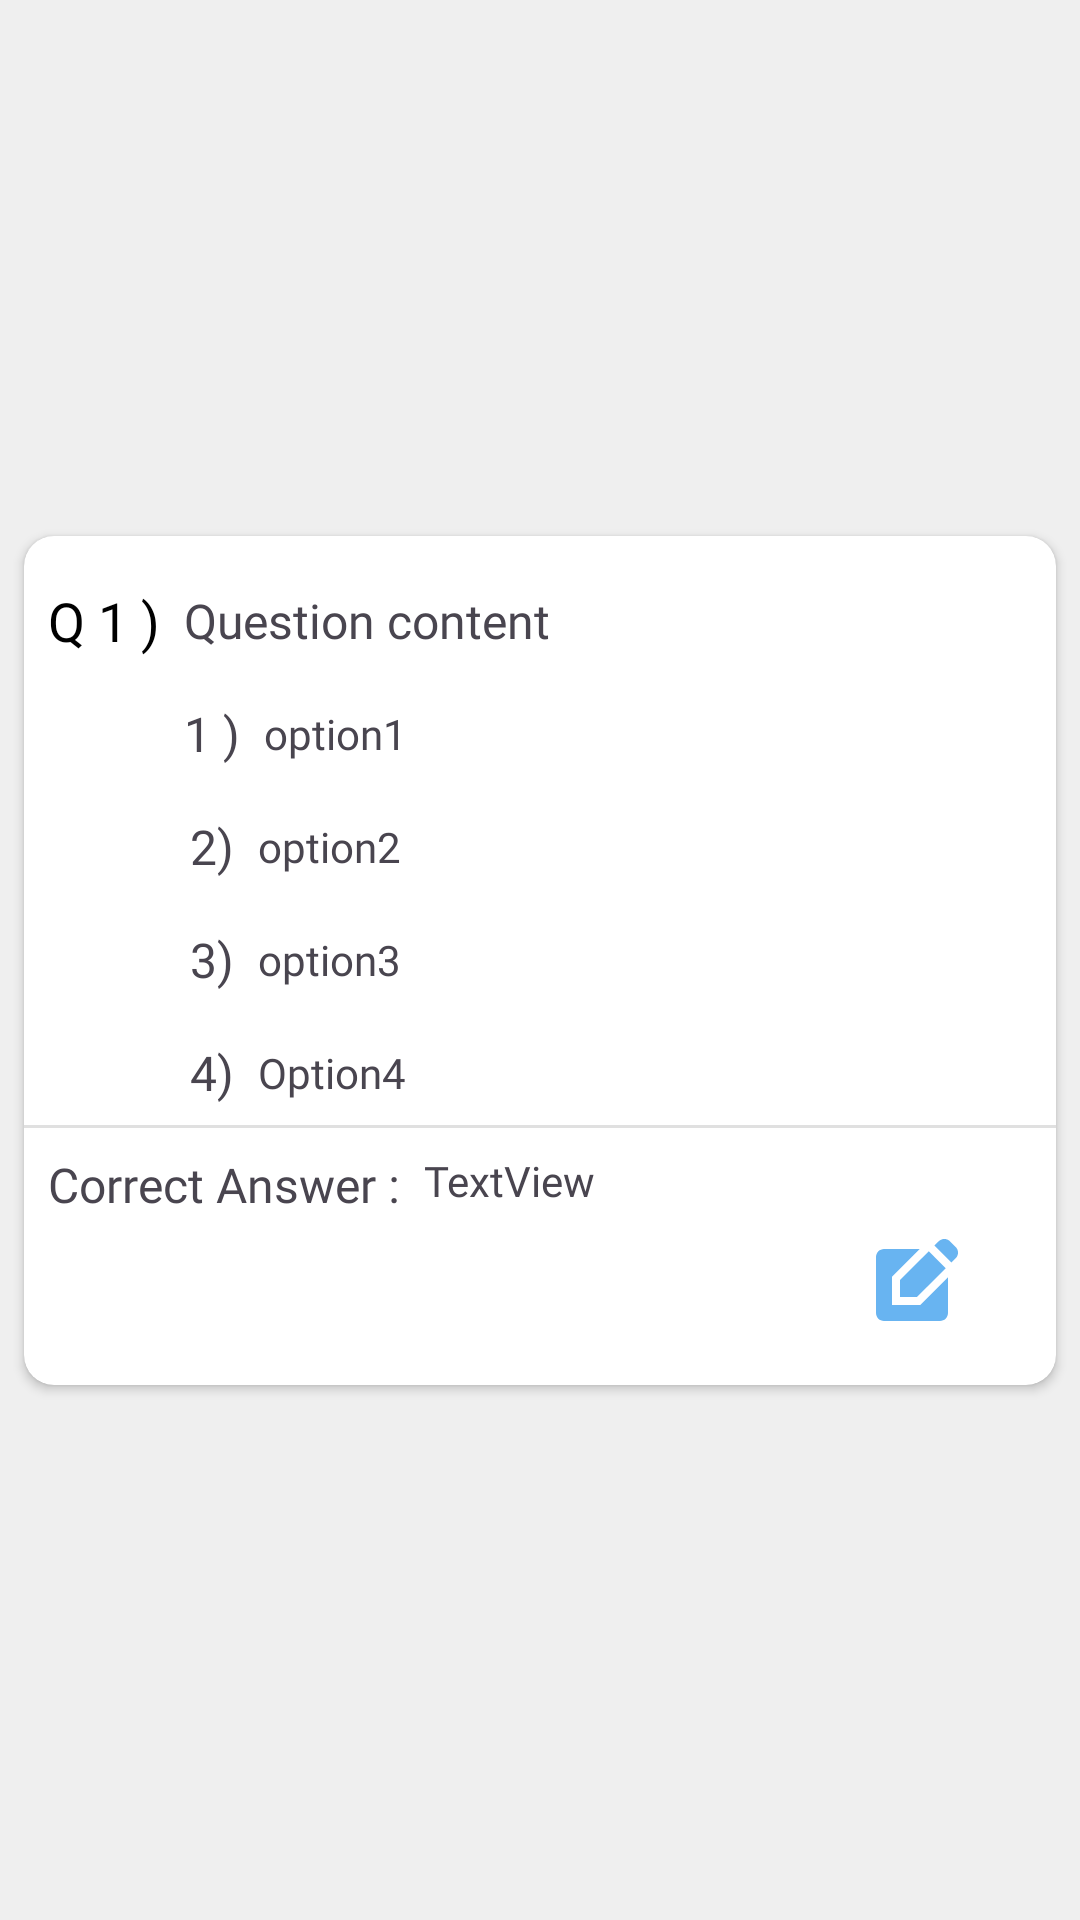

Icons on this 1080px×1920px Android screen, each with the point to tap as (x=x, y=y):
edit square: (x=917, y=1280)
